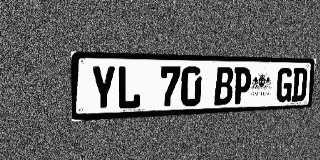0: (180, 66, 202, 107)
7: (158, 66, 181, 108)
B: (214, 67, 234, 105)
D: (291, 68, 308, 102)
G: (276, 68, 293, 102)
L: (117, 66, 141, 110)
P: (233, 67, 252, 104)
Y: (90, 65, 116, 111)
